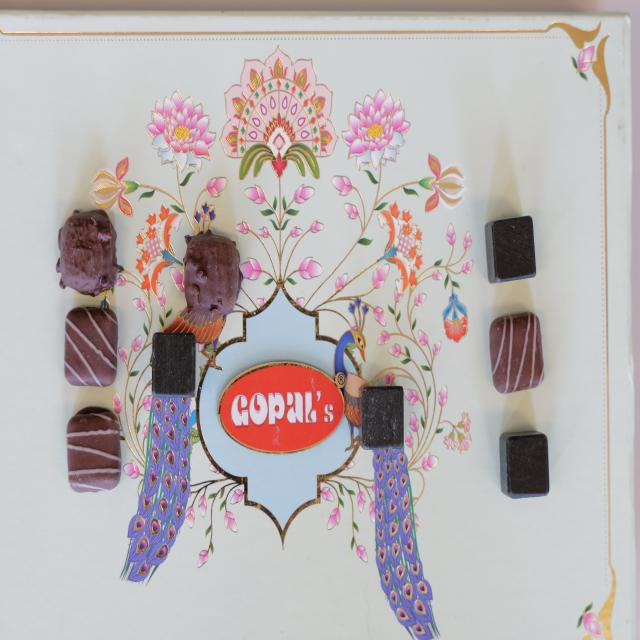Stracciatella: (66, 405, 120, 494), (64, 304, 118, 386), (490, 312, 544, 392)
Tentation_noir: (59, 208, 116, 294), (186, 230, 240, 320)
